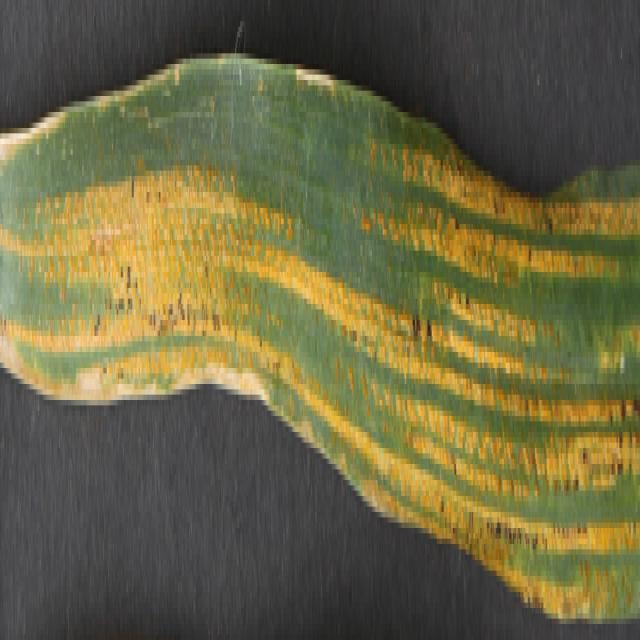leaf rust: (1, 144, 640, 587)
